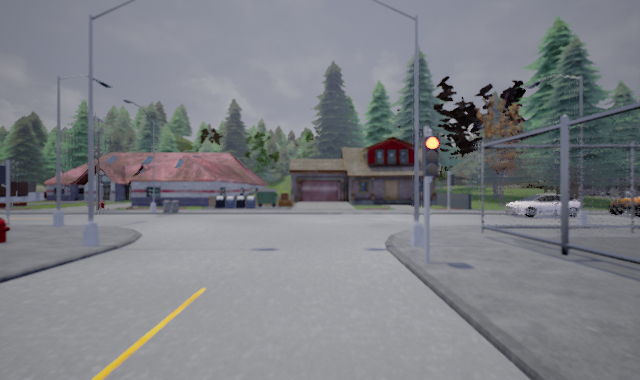traffic_light: (423, 134, 441, 179)
vehicle: (501, 193, 582, 217), (608, 188, 639, 217)
